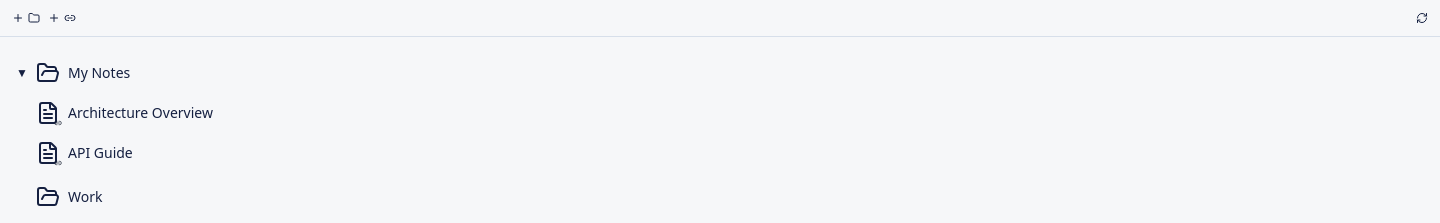
Test case: PersonalTree › expand and collapse › re-expands folder when clicked again
Expected: the text "Architecture Overview" is shown, [68, 103, 213, 122]
# Collapse then re-expand
Click the text "My Notes".
click(99, 72)  # box [68, 63, 130, 82]
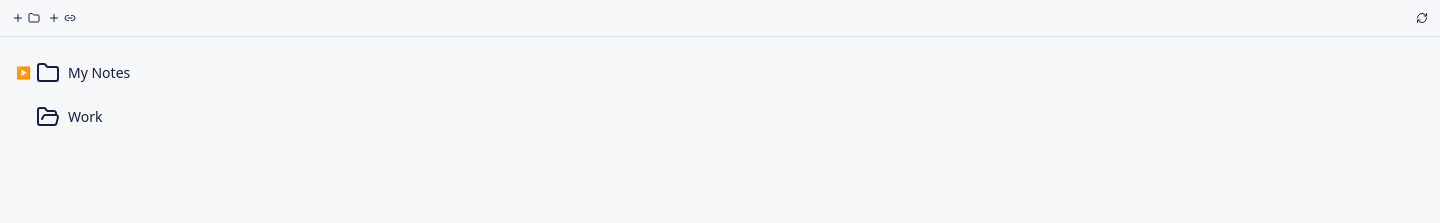
Expected: the button "Architecture Overview" is gone
Click the text "My Notes".
click(99, 72)  # box [68, 63, 130, 82]
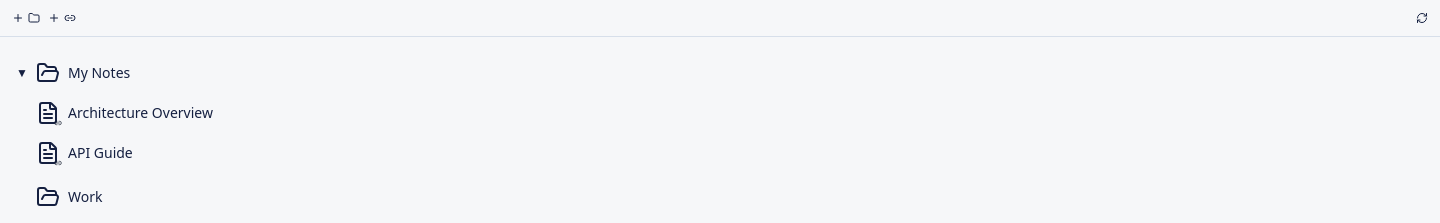
Expected: the text "Architecture Overview" is shown, [68, 103, 213, 122]
